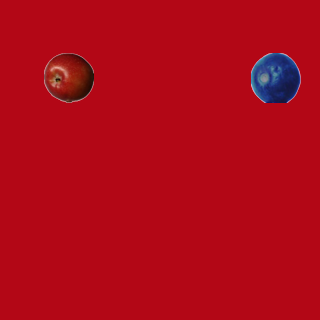Apple Braeburn: (43, 52, 93, 102)
Huckleberry: (250, 52, 300, 102)
